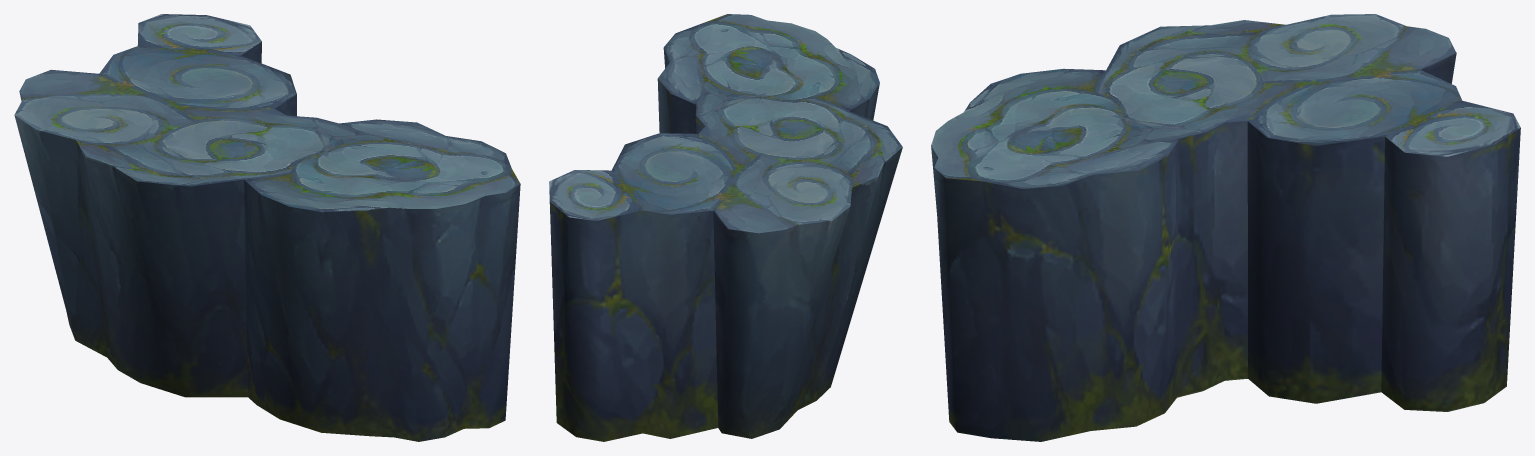
The model's file is fb_tys_wj_04_a.FBX.
3 renders of one model, left to right at view 1: azimuth 30°, elevation 25°; view 2: azimuth 150°, elevation 25°; view 3: azimuth 270°, elevation 25°, orthographic. The views are drawn at different scales.
Parts seen in each view (by area): view 1: fb_tys_wj_04_a; view 2: fb_tys_wj_04_a; view 3: fb_tys_wj_04_a.
Part boxes in pixels (x1,y1,x2,y2): fb_tys_wj_04_a: [14, 14, 520, 441]; fb_tys_wj_04_a: [549, 14, 902, 441]; fb_tys_wj_04_a: [931, 14, 1520, 441].
Size of the model in its own units: 363 by 252 by 516.
